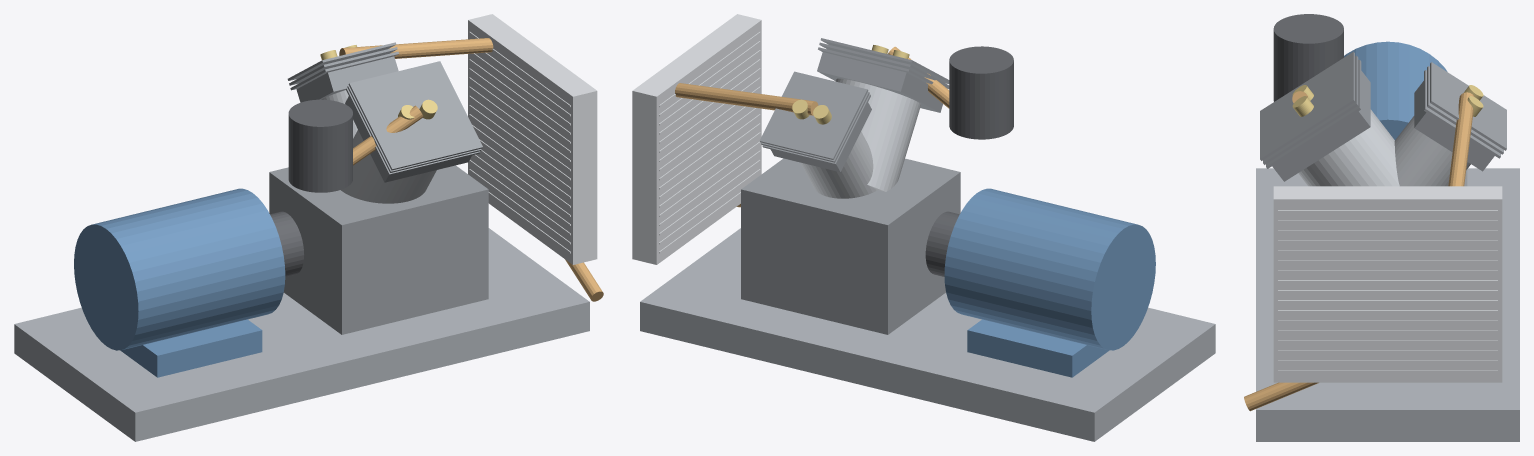
The model's file is modele.glb.
3 renders of one model, left to right at view 1: azimuth 30°, elevation 25°; view 2: azimuth 150°, elevation 25°; view 3: azimuth 270°, elevation 25°, orthographic. The views are drawn at different scales.
Parts seen in each view (by area): view 1: socle, moteur_electrique, carter, refroidisseur, culasse_bp, filtre_admission, culasse_hp, tuyauteries, cylindre_bp, accouplement; view 2: socle, moteur_electrique, carter, refroidisseur, culasse_hp, filtre_admission, culasse_bp, cylindre_bp, cylindre_hp, tuyauteries, accouplement; view 3: refroidisseur, socle, culasse_bp, culasse_hp, moteur_electrique, filtre_admission, cylindre_bp, cylindre_hp, tuyauteries, soupapes_bp, soupapes_hp.
Part boxes in pixels (box(x1,y1,x2,y2)): socle: box(14, 228, 589, 441); moteur_electrique: box(74, 188, 285, 377); carter: box(269, 165, 488, 334); refroidisseur: box(468, 14, 597, 264); culasse_bp: box(345, 61, 482, 182); filtre_admission: box(288, 99, 352, 192); culasse_hp: box(287, 42, 398, 102); tuyauteries: box(339, 38, 603, 301); cylindre_bp: box(341, 130, 436, 203); accouplement: box(270, 211, 303, 276); socle: box(640, 228, 1215, 441); moteur_electrique: box(944, 188, 1155, 377); carter: box(741, 158, 960, 334); refroidisseur: box(632, 14, 761, 264); culasse_hp: box(759, 71, 871, 172); filtre_admission: box(949, 46, 1013, 139); culasse_bp: box(817, 38, 949, 112); cylindre_bp: box(835, 78, 920, 191); cylindre_hp: box(800, 131, 877, 198); tuyauteries: box(675, 46, 949, 207); accouplement: box(925, 211, 959, 276); refroidisseur: box(1273, 186, 1502, 382); socle: box(1256, 168, 1519, 441); culasse_bp: box(1260, 51, 1370, 181); culasse_hp: box(1414, 62, 1506, 171); moteur_electrique: box(1344, 41, 1447, 139); filtre_admission: box(1273, 14, 1343, 101); cylindre_bp: box(1298, 109, 1399, 186); cylindre_hp: box(1394, 116, 1470, 186); tuyauteries: box(1244, 91, 1474, 411); soupapes_bp: box(1292, 85, 1313, 116); soupapes_hp: box(1464, 85, 1483, 116).
Size of the model in its own units: 1.35 by 0.7183 by 0.6274.
